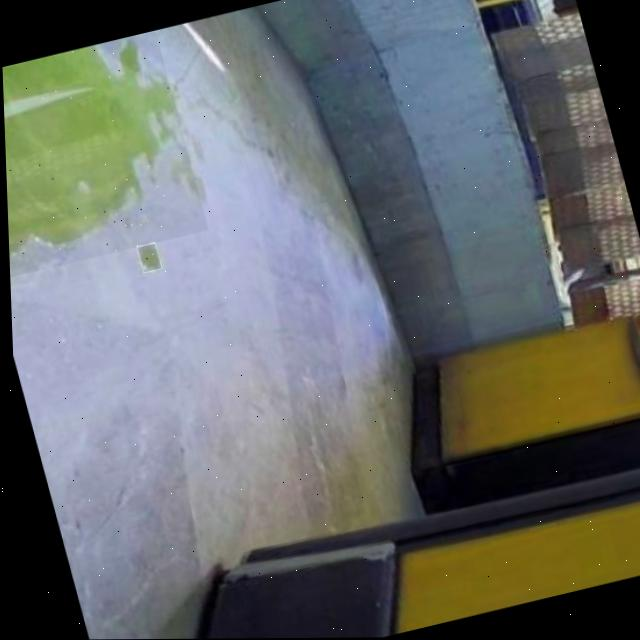spillage: (2, 43, 172, 252), (137, 242, 157, 271), (139, 244, 157, 270)
